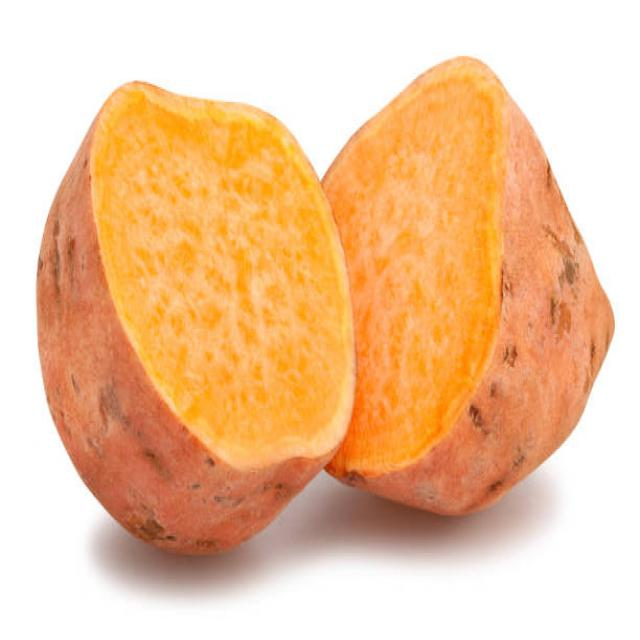Sweet Potato: (33, 75, 348, 552), (344, 51, 616, 520)
